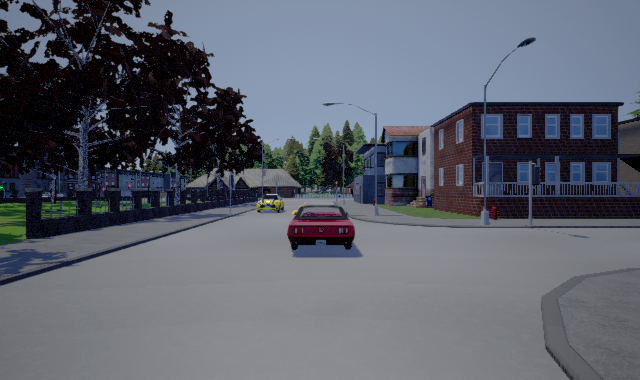traffic_light: (532, 163, 541, 188)
vehicle: (287, 205, 355, 250), (257, 194, 284, 213)
